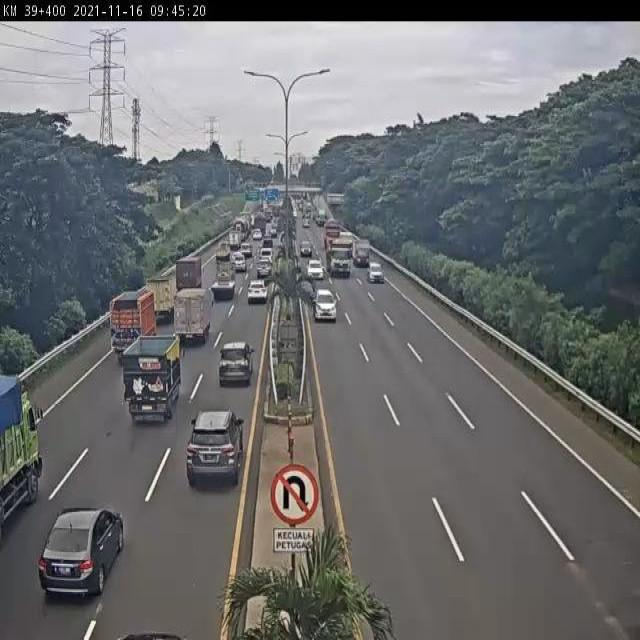car: (39, 507, 126, 597), (186, 411, 243, 486), (217, 342, 253, 390), (314, 287, 339, 321), (245, 281, 266, 304), (234, 245, 253, 268), (231, 253, 248, 275), (257, 253, 274, 270), (254, 265, 269, 284)
small truck: (171, 289, 211, 347), (144, 276, 173, 321), (210, 266, 235, 302), (174, 260, 201, 293), (212, 242, 229, 266)
truck-m-: (123, 332, 182, 423), (106, 294, 154, 358)
